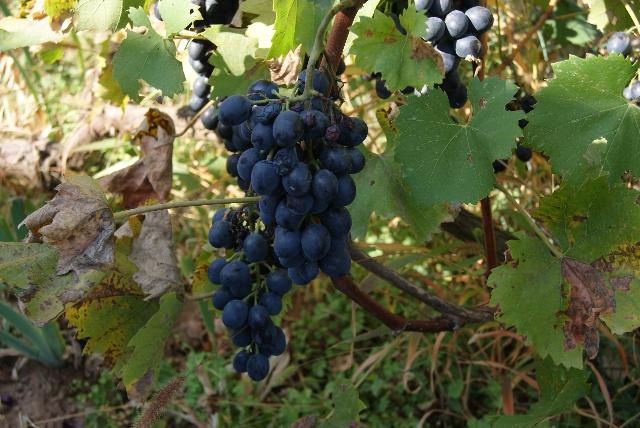grapes: (208, 80, 368, 381)
